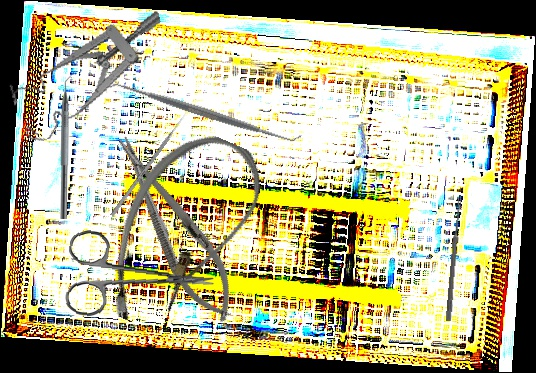Cannula: (88, 116, 277, 350)
Chopper: (60, 70, 77, 219)
Iris Scissors: (63, 228, 218, 328)
Needle Holder: (101, 124, 250, 332)
Pusher: (110, 109, 190, 217)
Spatula Surgical: (108, 72, 303, 153)
Speculum: (0, 10, 183, 146)
Surgical Spoon: (445, 198, 463, 322)
